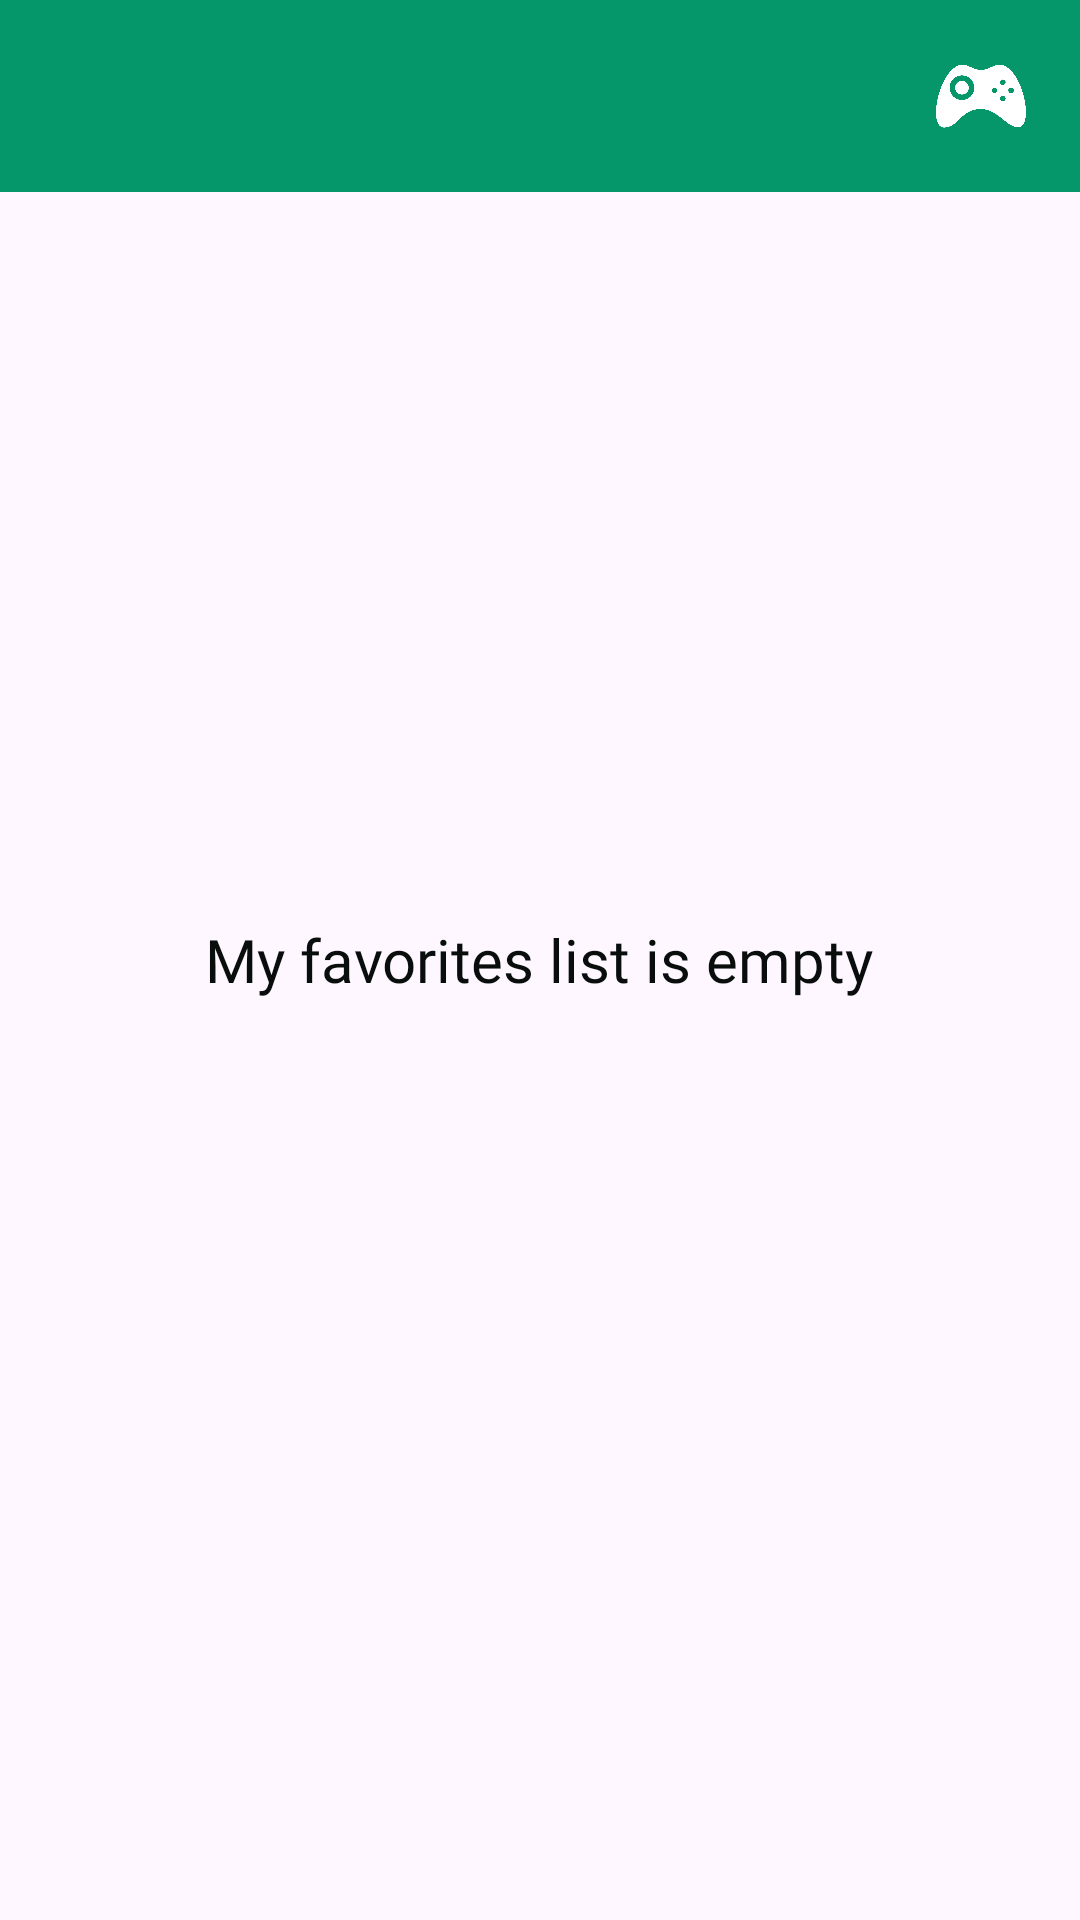

Where icons sit on this 1080px x 1920px app screen, as region(x1, y1, x2, y2):
game: region(936, 65, 1026, 128)
